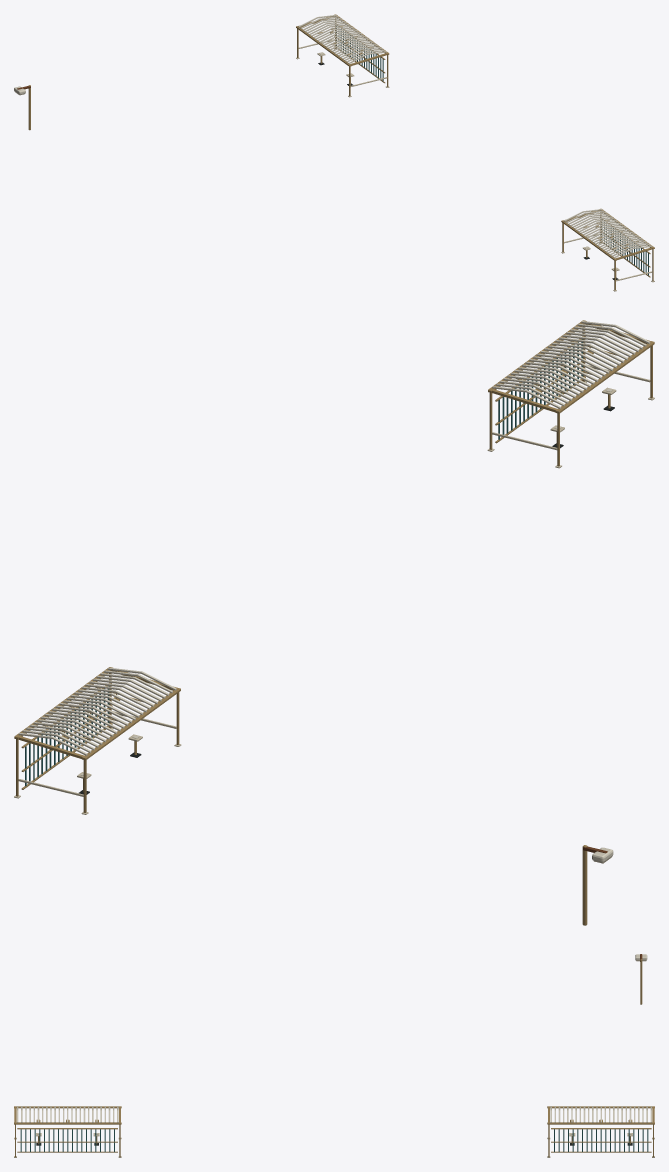
Rendered from Group6ThermalRecovery_03_r004.glb.
The picture shows the model from 3 angles, top to bottom: view 1: azimuth 30°, elevation 25°; view 2: azimuth 150°, elevation 25°; view 3: azimuth 270°, elevation 25°; orthographic projection. The views are drawn at different scales.
Bounding box in the file's own units: 28.42 × 3.7 × 48.06.
Materials: 8 (7 with a texture image).
